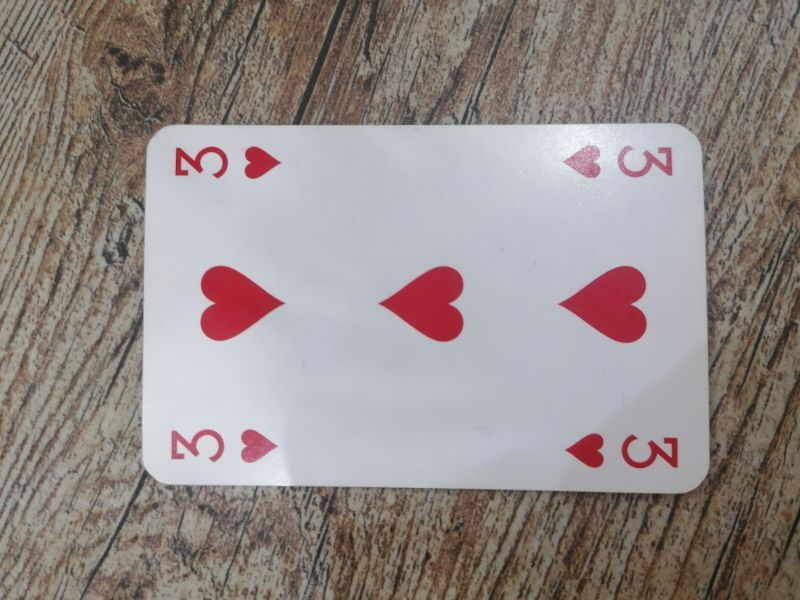3h: (554, 134, 685, 189), (161, 419, 291, 474), (559, 421, 684, 476), (169, 137, 288, 186)
